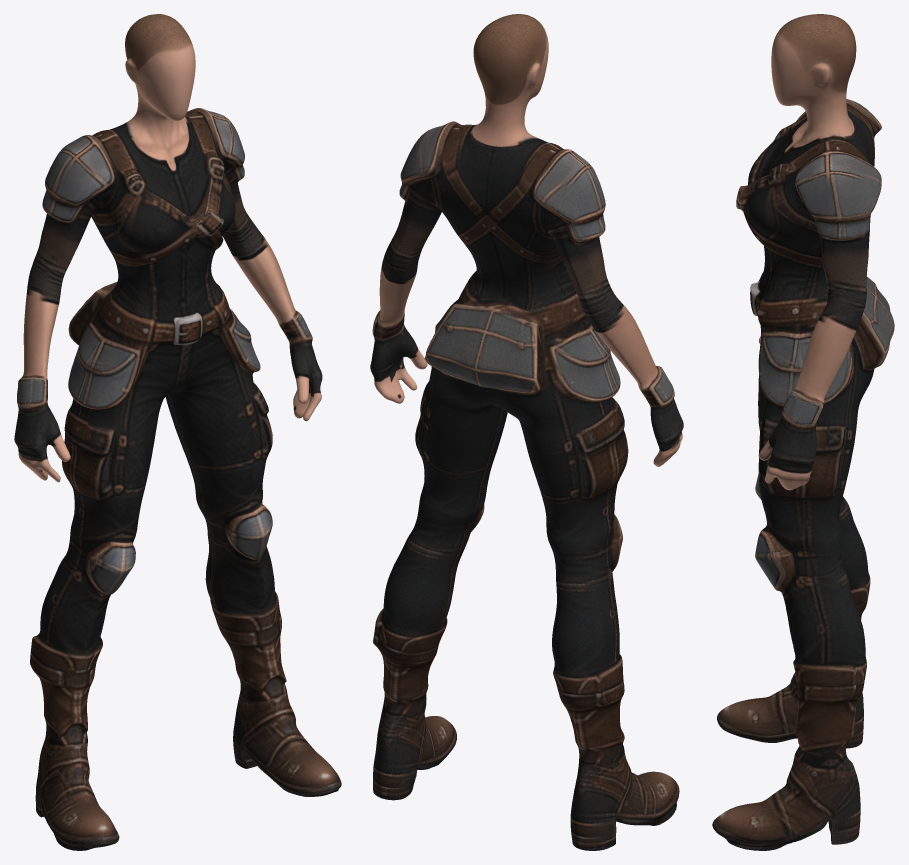
File: Corpo_Feminino_Alto.glb
3 views of the same model, side by side, from view 1: azimuth 30°, elevation 25°; view 2: azimuth 150°, elevation 25°; view 3: azimuth 270°, elevation 25° (orthographic). The views are drawn at different scales.
Bounding box in the file's own units: 0.7619 × 1.9 × 0.4078.
1 material, 1 textured.
